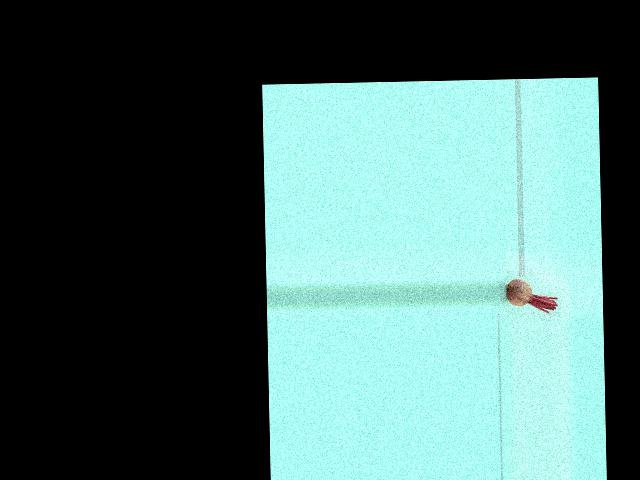beet: (506, 277, 557, 313)
